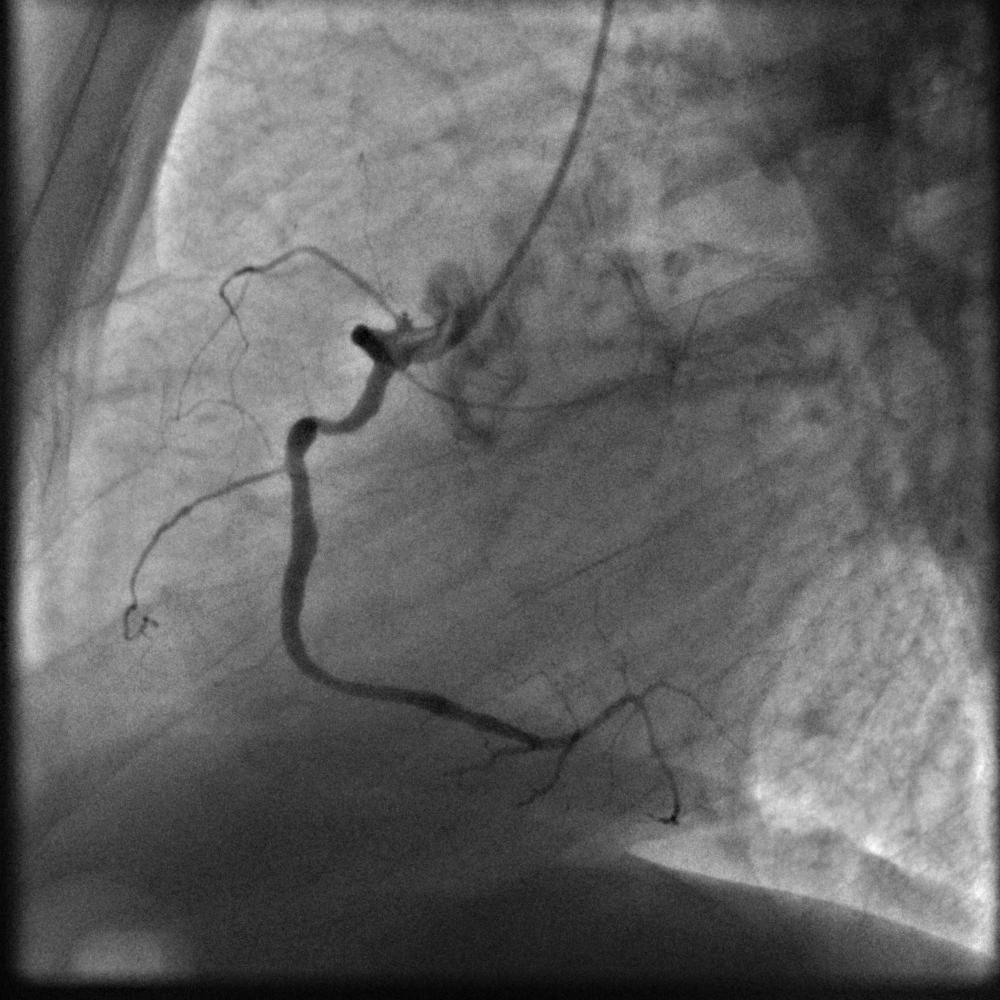Stenosis: (306, 412, 339, 439)
